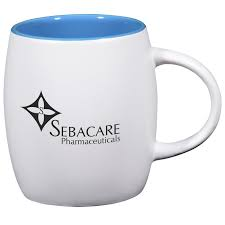cup: (3, 13, 221, 207)
